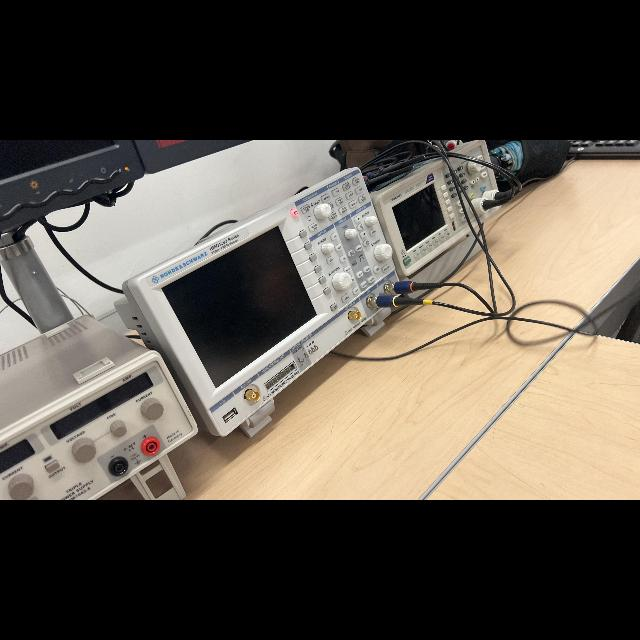Digital-Oscilloscope: (115, 168, 397, 437)
